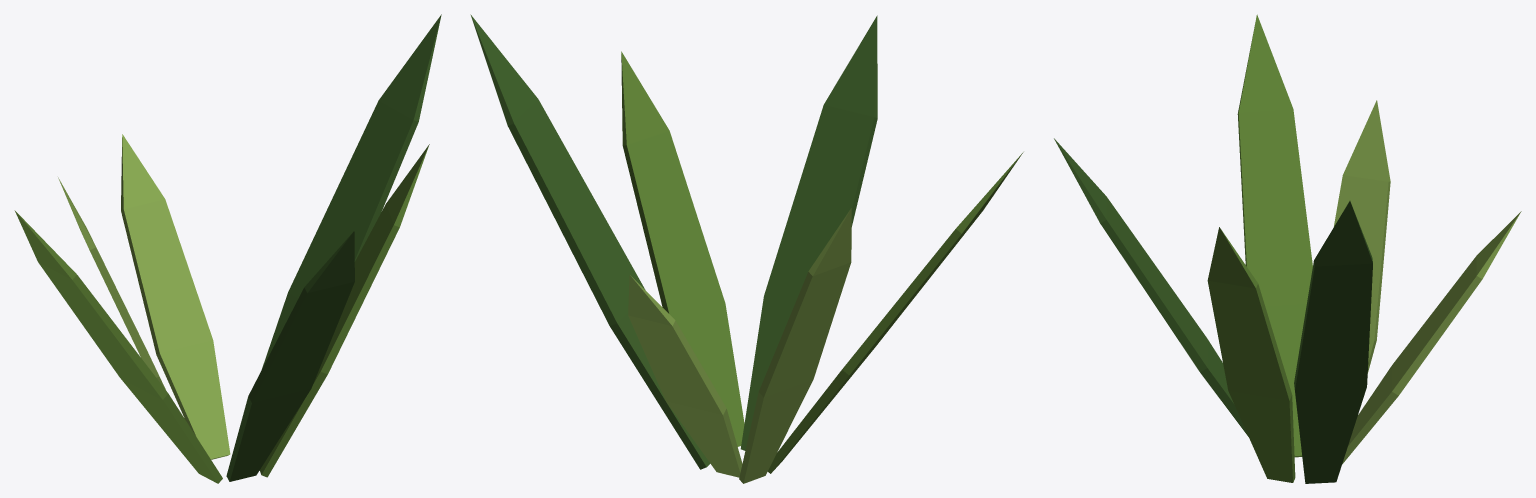
File: sea_grass.gltf
3 renders of one model, left to right at view 1: azimuth 30°, elevation 25°; view 2: azimuth 150°, elevation 25°; view 3: azimuth 270°, elevation 25°, orthographic. The views are drawn at different scales.
Visible parts, largest first — view 1: sea_grass; view 2: sea_grass; view 3: sea_grass.
Part boxes in pixels (x1,y1,x2,y2): sea_grass: (14,14,441,483); sea_grass: (470,14,1023,483); sea_grass: (1054,14,1521,483).
Bounding box in the file's own units: 0.4735 × 0.3647 × 0.4023.
